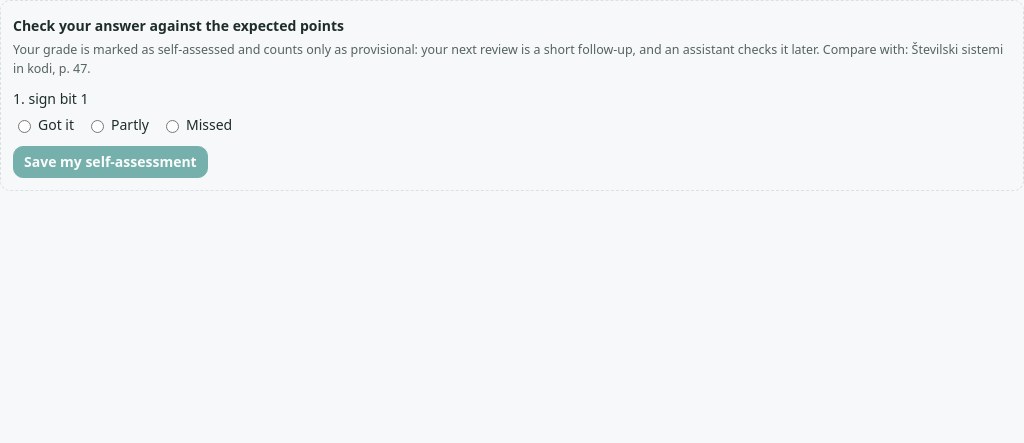
self-assessment › 4 Transfer needs a reason
Check: the element "1. sign bit 1" is shown, box [13,90,232,134]
Click the radio button labelled "Got it". click: (24, 126)
box: [18,120,31,133]
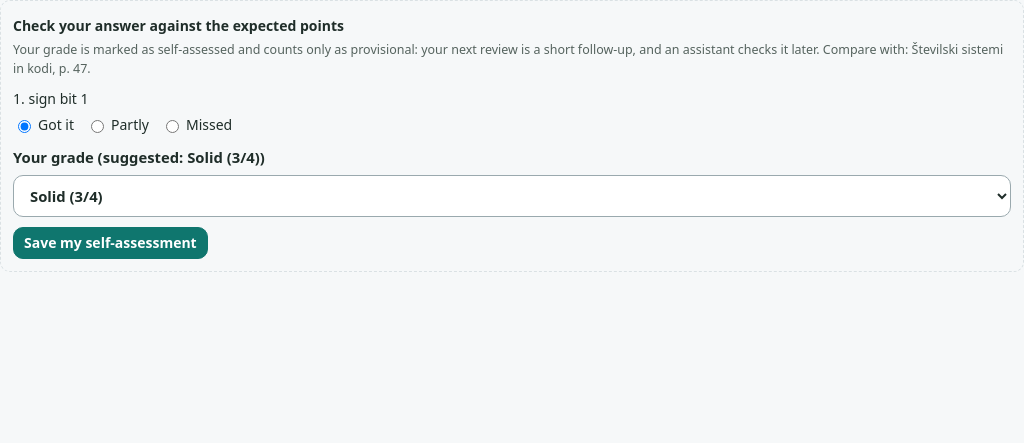
Select "Transfer (4/4)" in the dropdown. click: (512, 196)
box: [13,175,1011,217]
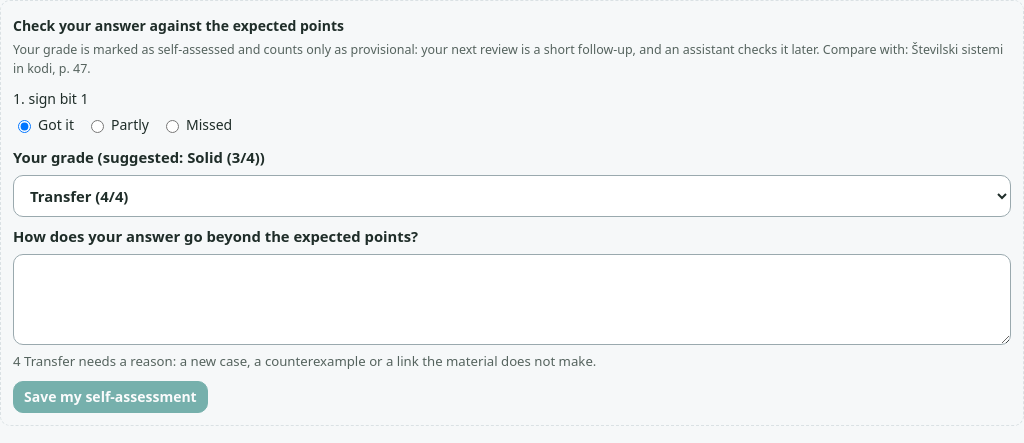
Check: the button "Save my self-assessment" is disabled, box [13,381,208,413]
Type "I also showed the denormalised case." into the text box. click: (512, 299)
box: [13,254,1011,345]
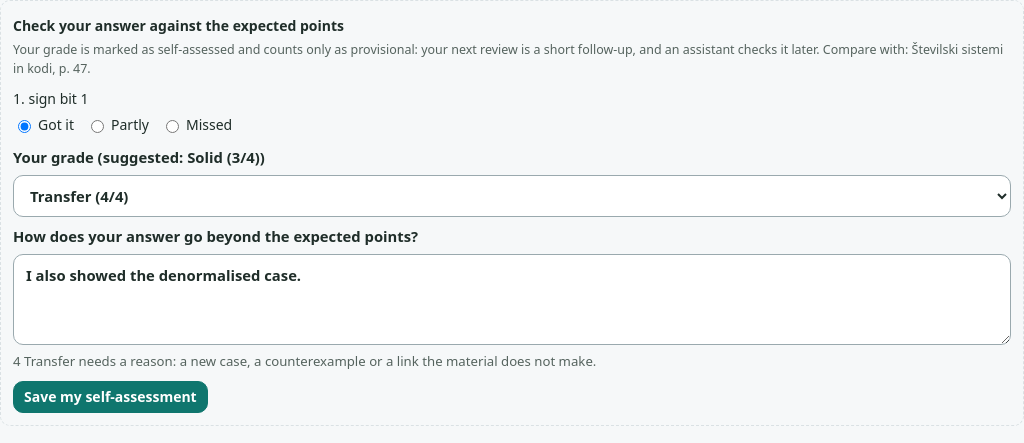
Check: the button "Save my self-assessment" is enabled, box [13,381,208,413]
